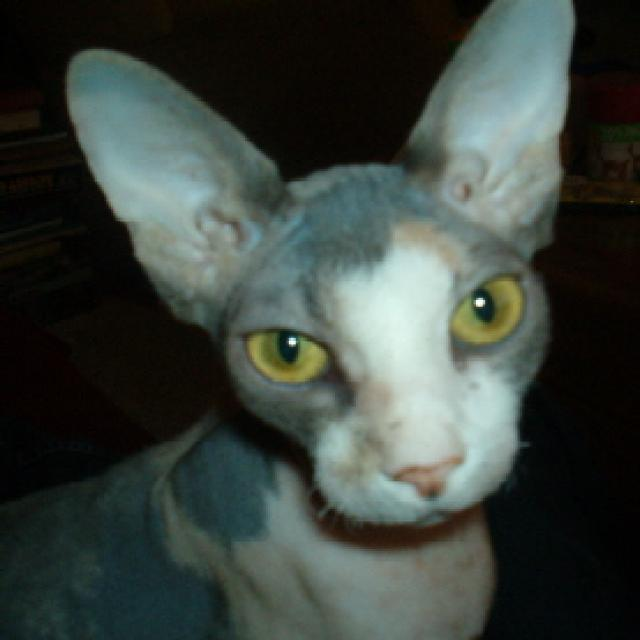Sphynx: (59, 0, 586, 541)
